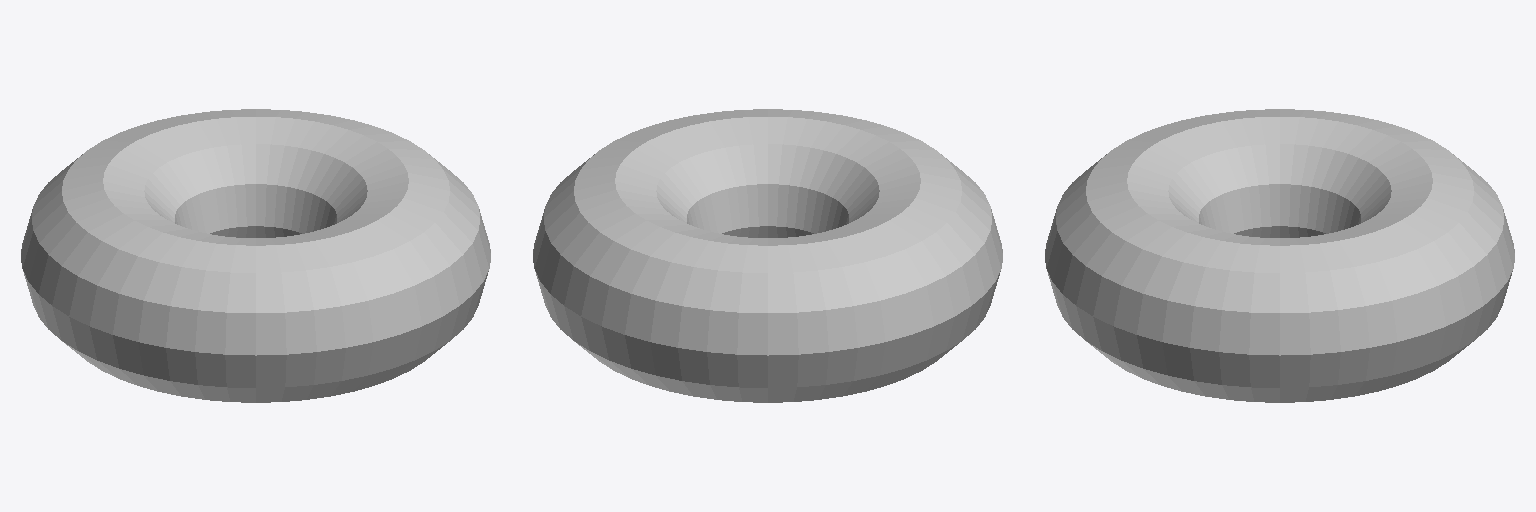
The model's file is Raw Doughnut.obj.
The picture shows the model from 3 angles: view 1: azimuth 30°, elevation 25°; view 2: azimuth 150°, elevation 25°; view 3: azimuth 270°, elevation 25°; orthographic projection.
Visible parts, largest first — view 1: Torus; view 2: Torus; view 3: Torus.
Boxes of the visible parts, x1,y1,x2,y2 form: Torus: [21, 109, 490, 402]; Torus: [533, 109, 1002, 402]; Torus: [1045, 109, 1514, 402].
Size of the model in its own units: 1.54 by 0.54 by 1.54.